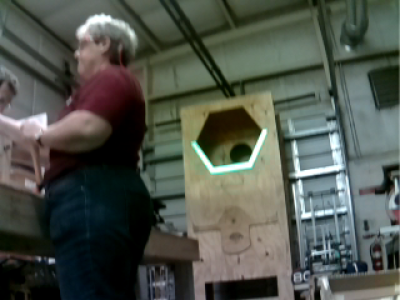target: (190, 129, 269, 173)
